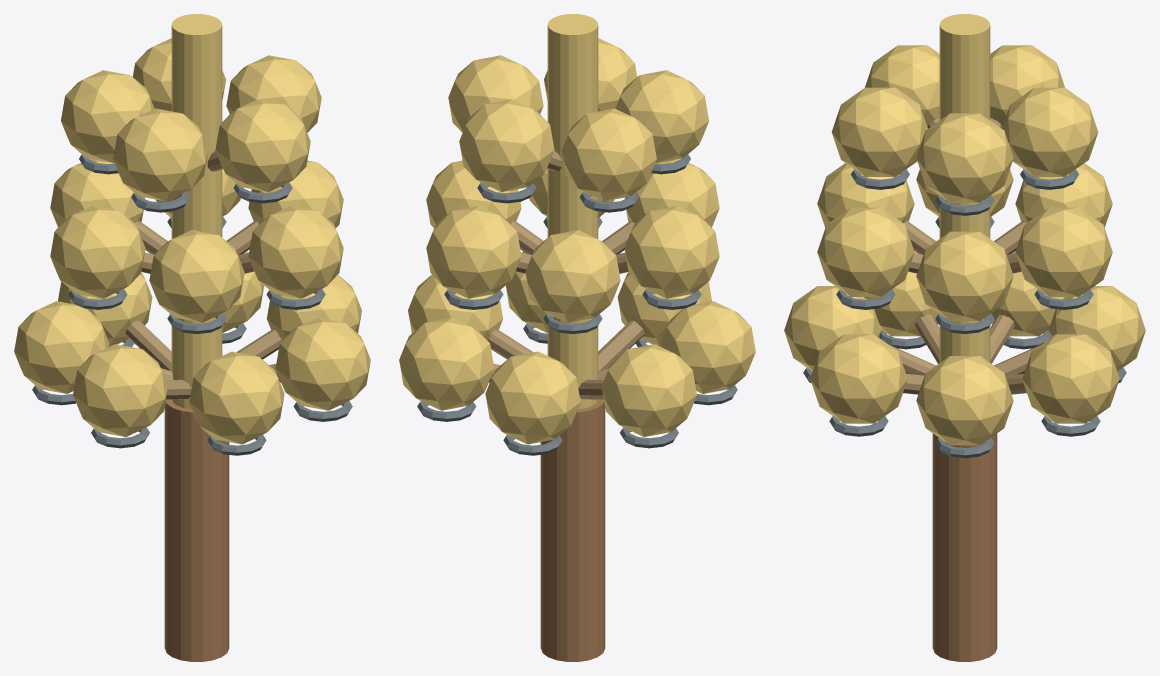
File: ritual_suzu.glb
The picture shows the model from 3 angles, left to right: view 1: azimuth 30°, elevation 25°; view 2: azimuth 150°, elevation 25°; view 3: azimuth 270°, elevation 25°; orthographic projection.
Visible parts, largest first — view 1: Kagura suzu wooden hand grip, Ornamental brass branch, Distinct individually cast suzu bell.006, Distinct individually cast suzu bell.011, Distinct individually cast suzu bell.012, Distinct individually cast suzu bell.016, Distinct individually cast suzu bell.010, Distinct individually cast suzu bell.017, Distinct individually cast suzu bell.004, Distinct individually cast suzu bell.005, Distinct individually cast suzu bell.003, Distinct individually cast suzu bell.015 (+20 smaller); view 2: Kagura suzu wooden hand grip, Ornamental brass branch, Distinct individually cast suzu bell.001, Distinct individually cast suzu bell.008, Distinct individually cast suzu bell.009, Distinct individually cast suzu bell.015, Distinct individually cast suzu bell.010, Distinct individually cast suzu bell.014, Distinct individually cast suzu bell.003, Distinct individually cast suzu bell.002, Distinct individually cast suzu bell.004, Distinct individually cast suzu bell.016 (+20 smaller); view 3: Kagura suzu wooden hand grip, Ornamental brass branch, Distinct individually cast suzu bell.001, Distinct individually cast suzu bell.006, Distinct individually cast suzu bell.013, Distinct individually cast suzu bell.008, Distinct individually cast suzu bell.012, Distinct individually cast suzu bell, Distinct individually cast suzu bell.007, Distinct individually cast suzu bell.014, Distinct individually cast suzu bell.017, Distinct individually cast suzu bell.002 (+21 smaller).
Boxes of the visible parts, x1,y1,x2,y2 form: Kagura suzu wooden hand grip: [164, 399, 229, 661]; Ornamental brass branch: [171, 14, 222, 409]; Distinct individually cast suzu bell.006: [275, 318, 370, 410]; Distinct individually cast suzu bell.011: [149, 230, 244, 322]; Distinct individually cast suzu bell.012: [248, 206, 343, 298]; Distinct individually cast suzu bell.016: [113, 108, 208, 201]; Distinct individually cast suzu bell.010: [50, 205, 145, 298]; Distinct individually cast suzu bell.017: [215, 99, 310, 192]; Distinct individually cast suzu bell.004: [73, 344, 168, 436]; Distinct individually cast suzu bell.005: [189, 351, 284, 444]; Distinct individually cast suzu bell.003: [14, 301, 109, 393]; Distinct individually cast suzu bell.015: [61, 70, 154, 162]; Kagura suzu wooden hand grip: [540, 399, 605, 661]; Ornamental brass branch: [547, 14, 598, 409]; Distinct individually cast suzu bell.001: [399, 318, 494, 410]; Distinct individually cast suzu bell.008: [426, 206, 521, 298]; Distinct individually cast suzu bell.009: [525, 230, 620, 322]; Distinct individually cast suzu bell.015: [561, 108, 656, 201]; Distinct individually cast suzu bell.010: [624, 205, 719, 298]; Distinct individually cast suzu bell.014: [459, 99, 554, 192]; Distinct individually cast suzu bell.003: [601, 344, 696, 436]; Distinct individually cast suzu bell.002: [485, 351, 580, 444]; Distinct individually cast suzu bell.004: [660, 301, 755, 393]; Distinct individually cast suzu bell.016: [615, 70, 708, 162]; Kagura suzu wooden hand grip: [932, 433, 997, 661]; Ornamental brass branch: [939, 14, 990, 362]; Distinct individually cast suzu bell.001: [1022, 334, 1119, 423]; Distinct individually cast suzu bell.006: [810, 334, 907, 423]; Distinct individually cast suzu bell.013: [916, 113, 1013, 202]; Distinct individually cast suzu bell.008: [1015, 207, 1112, 296]; Distinct individually cast suzu bell.012: [817, 207, 914, 296]; Distinct individually cast suzu bell: [916, 356, 1013, 445]; Distinct individually cast suzu bell.007: [916, 231, 1013, 320]; Distinct individually cast suzu bell.014: [1002, 87, 1098, 176]; Distinct individually cast suzu bell.017: [831, 87, 927, 176]; Distinct individually cast suzu bell.002: [1048, 286, 1145, 371].
Size of the model in its own units: 0.9925 by 1.95 by 1.02.
